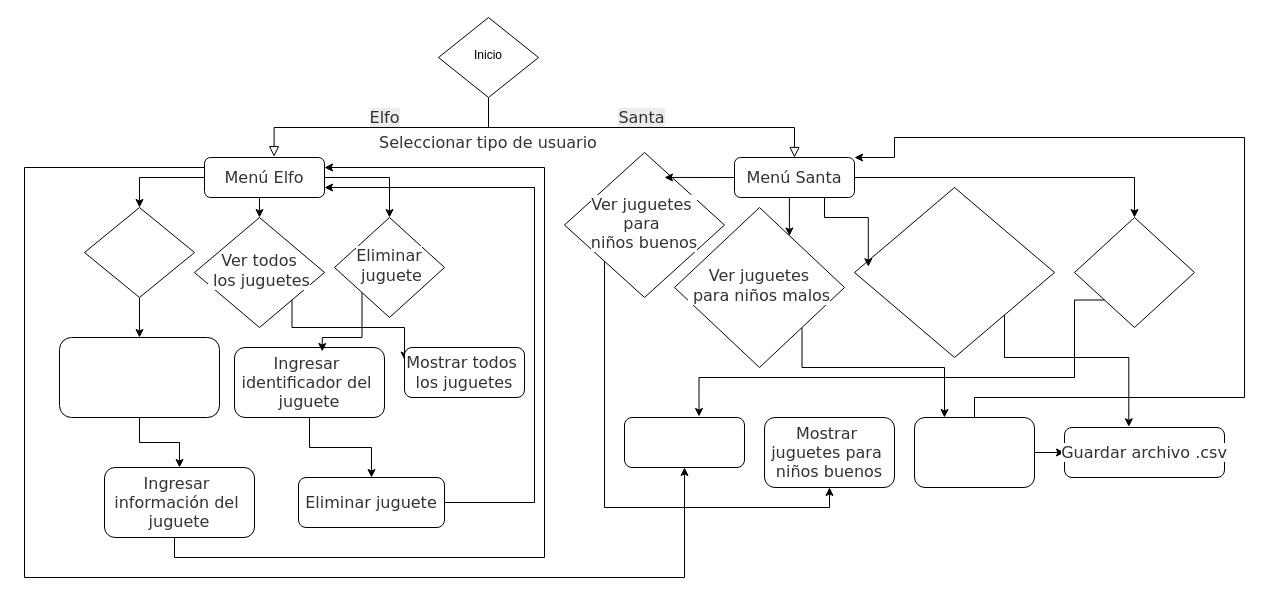
The diagram is 1270 pixels wide and 603 high, and some of its shapes have lost their labels. Each missing label, with the centre of its shape:
Añadir juguete: (x=139, y=252)
Cerrar sesión: (x=1134, y=272)
Guardar lista de juguetes en formato .csv: (x=954, y=272)
Mostrar juguetes para niños malos: (x=974, y=452)
Seleccionar tipo de juguete: para niño bueno o niño malo: (x=139, y=377)
Sesión cerrada: (x=684, y=442)
